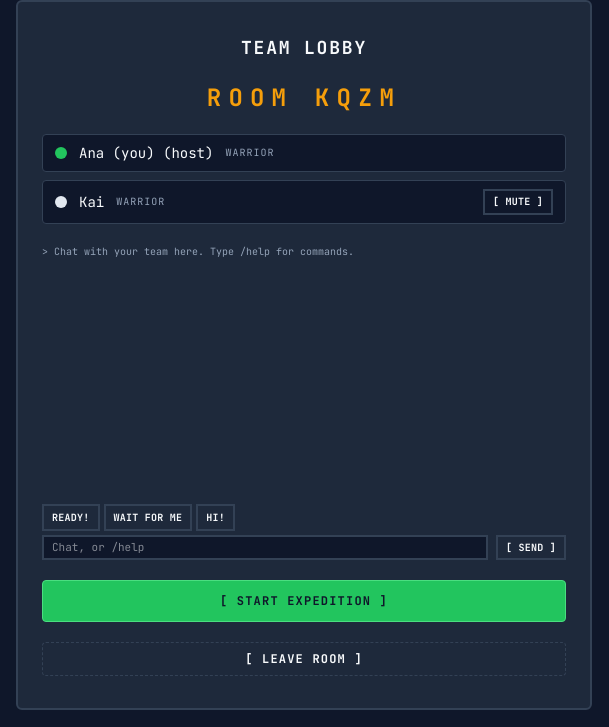
Test: TeamLobby chat › flips to Unmute and marks the row muted
The width and height of the screenshot is (609, 727).
Later steps or results of the test are not shown.
Click the button with aria-label "Mute Kai" at x=518, y=202, box x1=483 y1=189 x2=553 y2=215
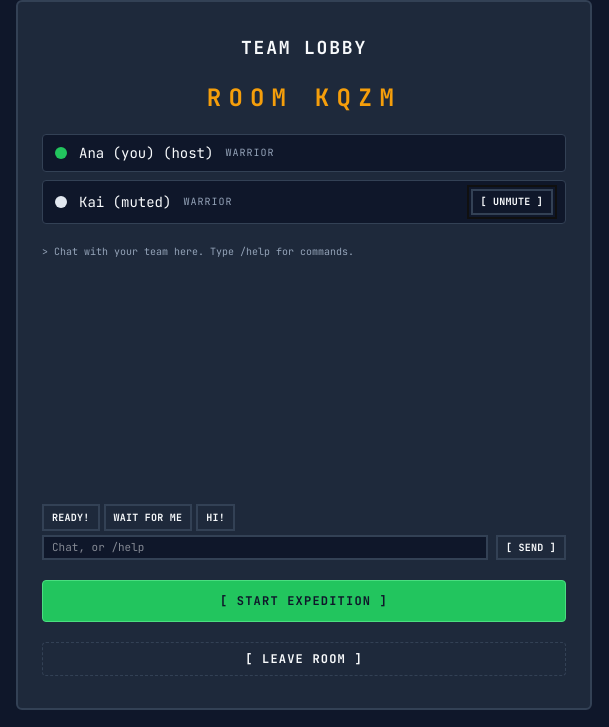
Now the button with aria-label "Unmute Kai" reads "[ Unmute ]", box x1=470 y1=189 x2=553 y2=215
Now the list item "Kai (muted) Warrior [ Unmute ]" is shown, box x1=42 y1=180 x2=566 y2=224
